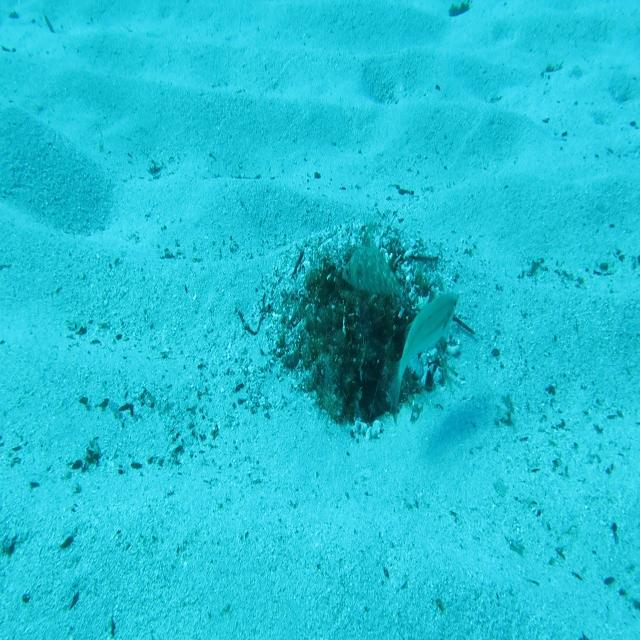INSF: (342, 240, 408, 309)
core_nest: (334, 279, 389, 328)
female: (386, 288, 462, 412)
nest: (255, 205, 474, 453)
vegetation: (447, 0, 472, 20)
